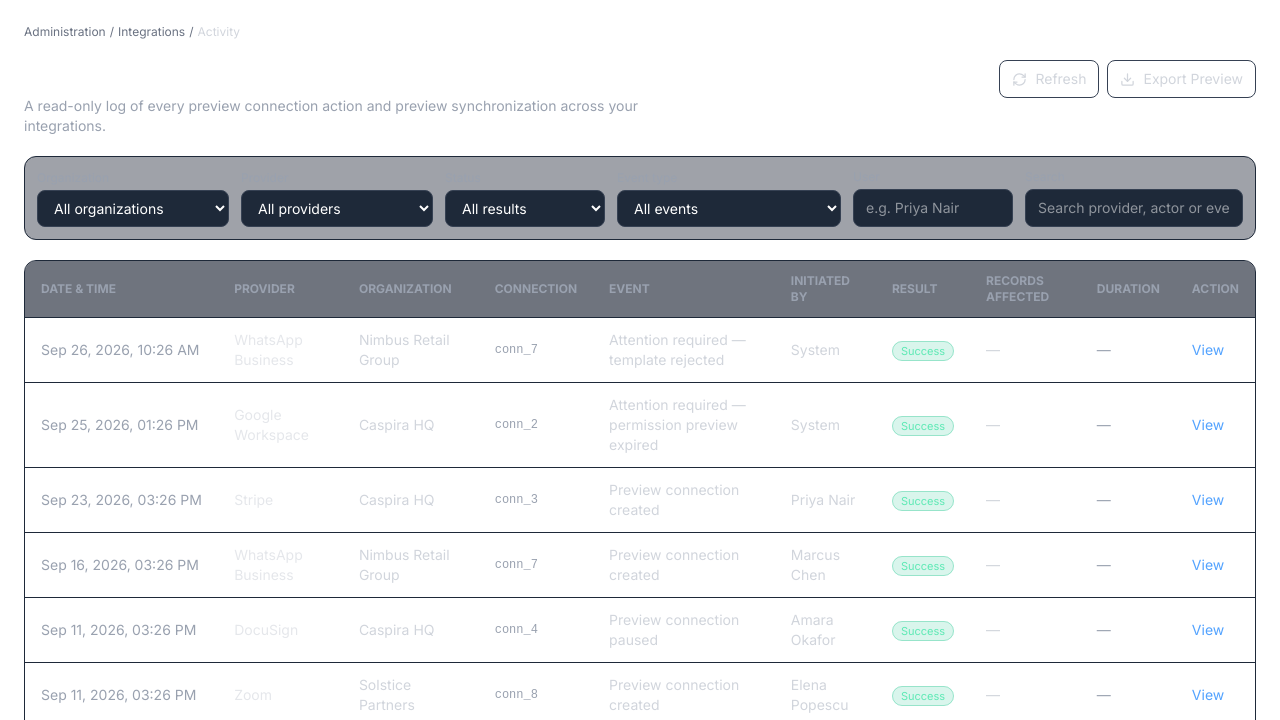
IntegrationActivity › shows a no-results empty state
Type "not-a-real-search-term-xyz" into the field labelled "Search" at (1134, 208), box [1025,189,1243,227]
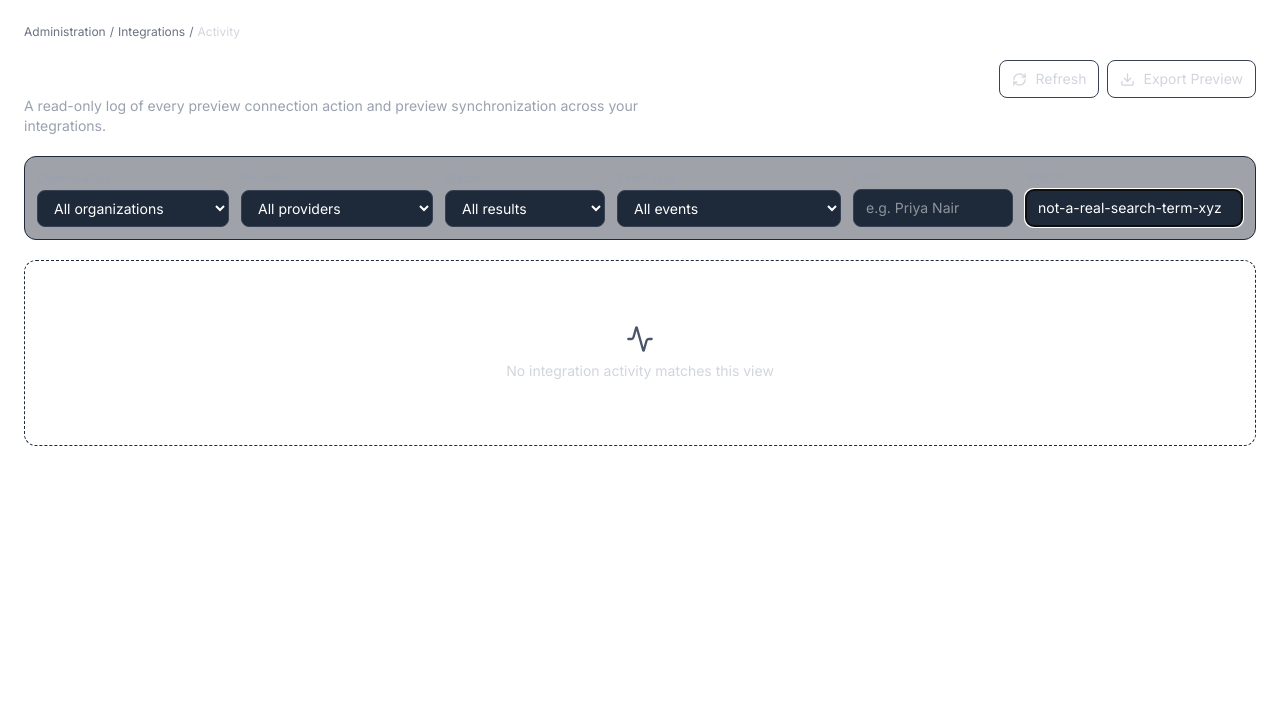
Check: the text "No integration activity matches this view" is shown, box [506,362,774,379]
